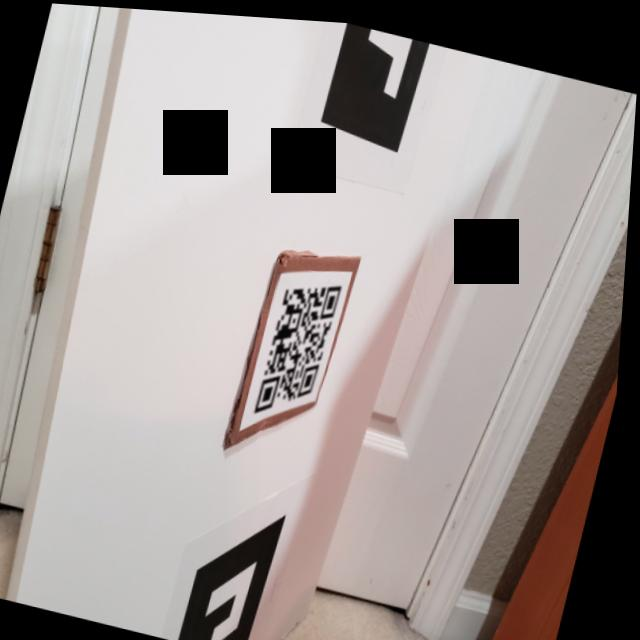QR_CODE: (247, 257, 351, 433)
